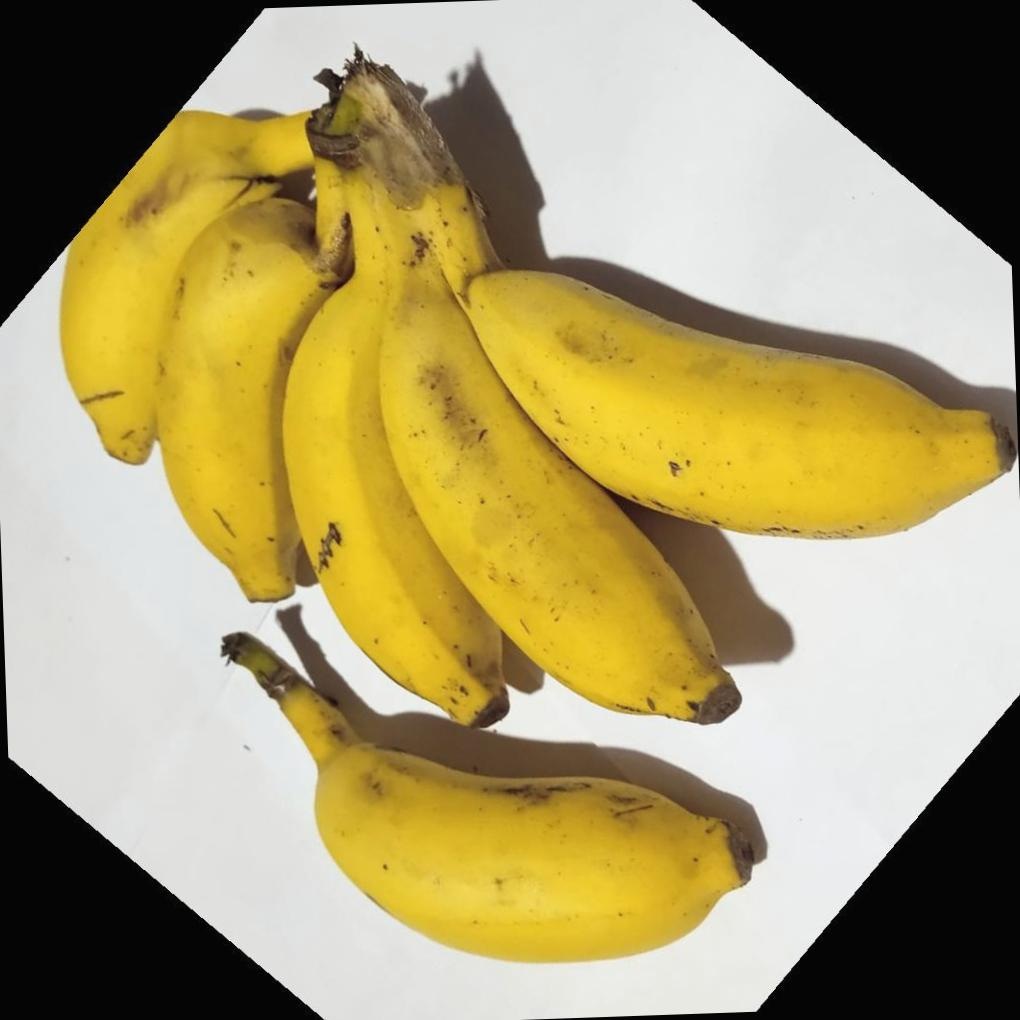Banana Ripe: (411, 92, 1020, 582), (71, 64, 476, 730), (204, 562, 785, 1020), (335, 214, 777, 746), (134, 157, 354, 694)
